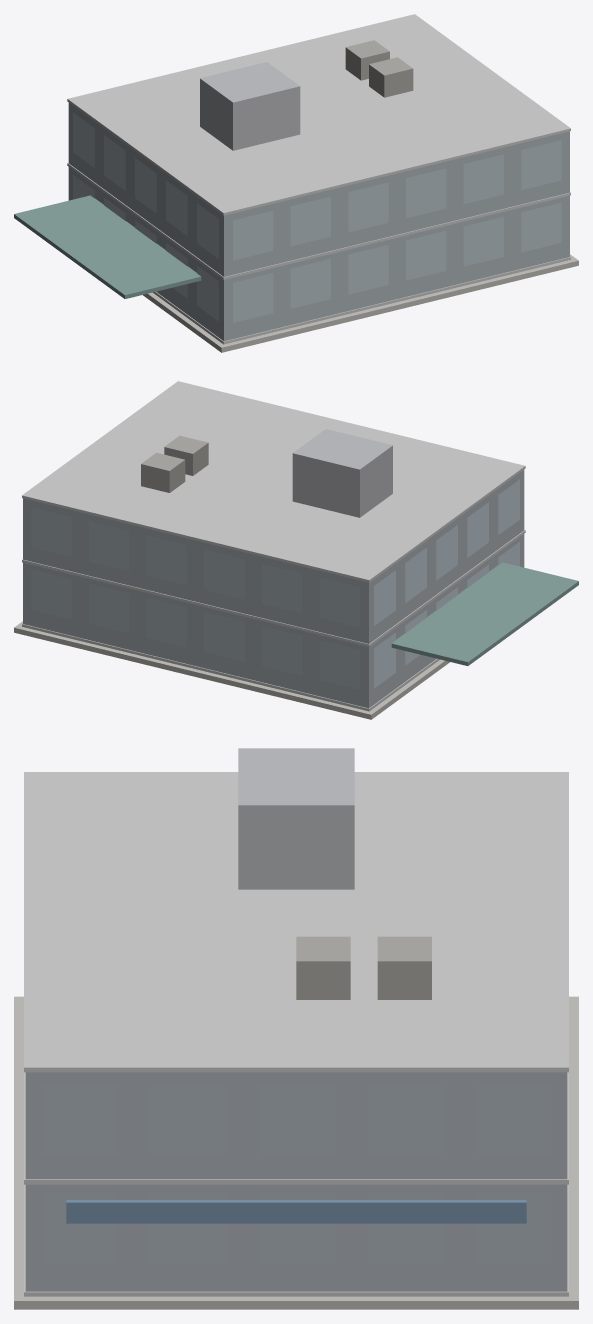
The model's file is 14_public_services-07.glb.
The picture shows the model from 3 angles, top to bottom: view 1: azimuth 30°, elevation 25°; view 2: azimuth 150°, elevation 25°; view 3: azimuth 270°, elevation 25°; orthographic projection. The views are drawn at different scales.
Bounding box in the file's own units: 22.3 × 9.18 × 14.6.
